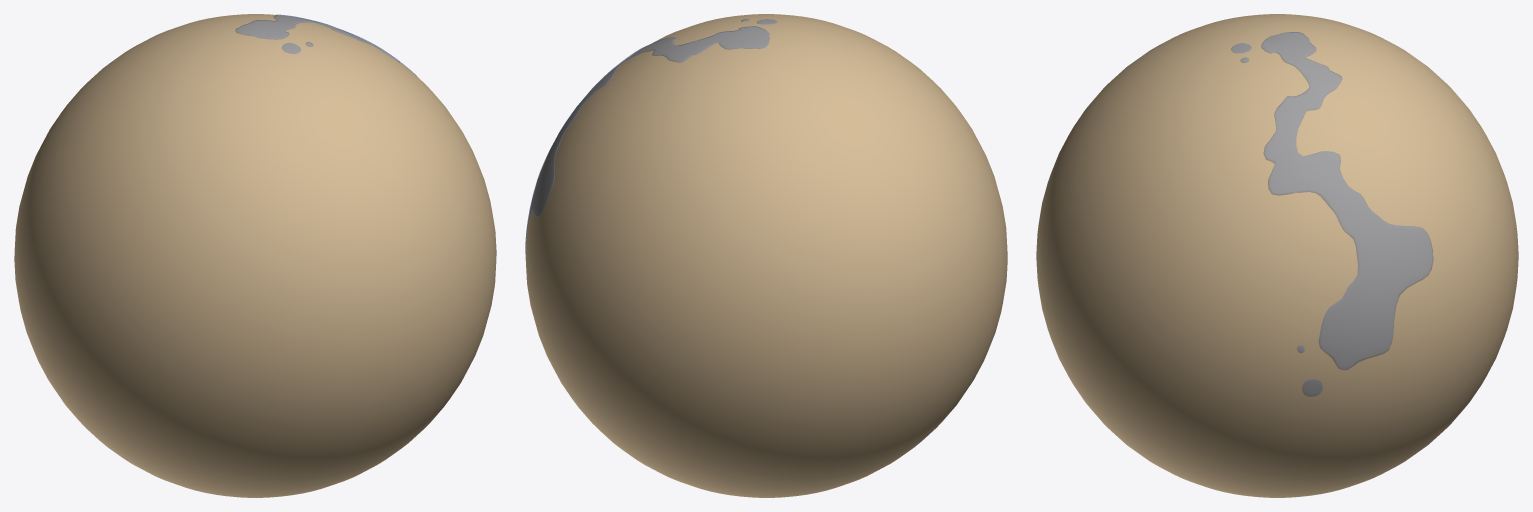
File: deprime.fbx
3 renders of one model, left to right at view 1: azimuth 30°, elevation 25°; view 2: azimuth 150°, elevation 25°; view 3: azimuth 270°, elevation 25°, orthographic.
Parts seen in each view (by area): view 1: planete derpime, larme; view 2: planete derpime, larme; view 3: planete derpime, larme.
Boxes of the visible parts, x1,y1,x2,y2 form: planete derpime: (14,14,496,497); larme: (235,14,417,76); planete derpime: (525,14,1007,497); larme: (525,19,776,253); planete derpime: (1036,14,1518,497); larme: (1231,32,1433,396).
Bounding box in the file's own units: 198 × 200 × 198.
